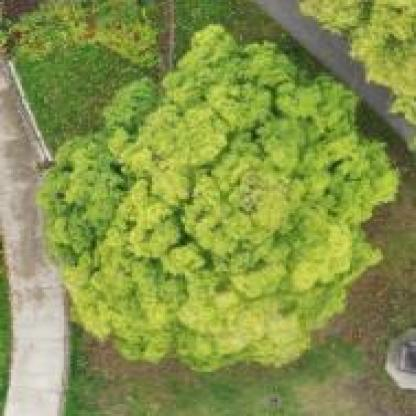Deciduous Tree: (42, 49, 416, 383), (310, 0, 416, 123)
